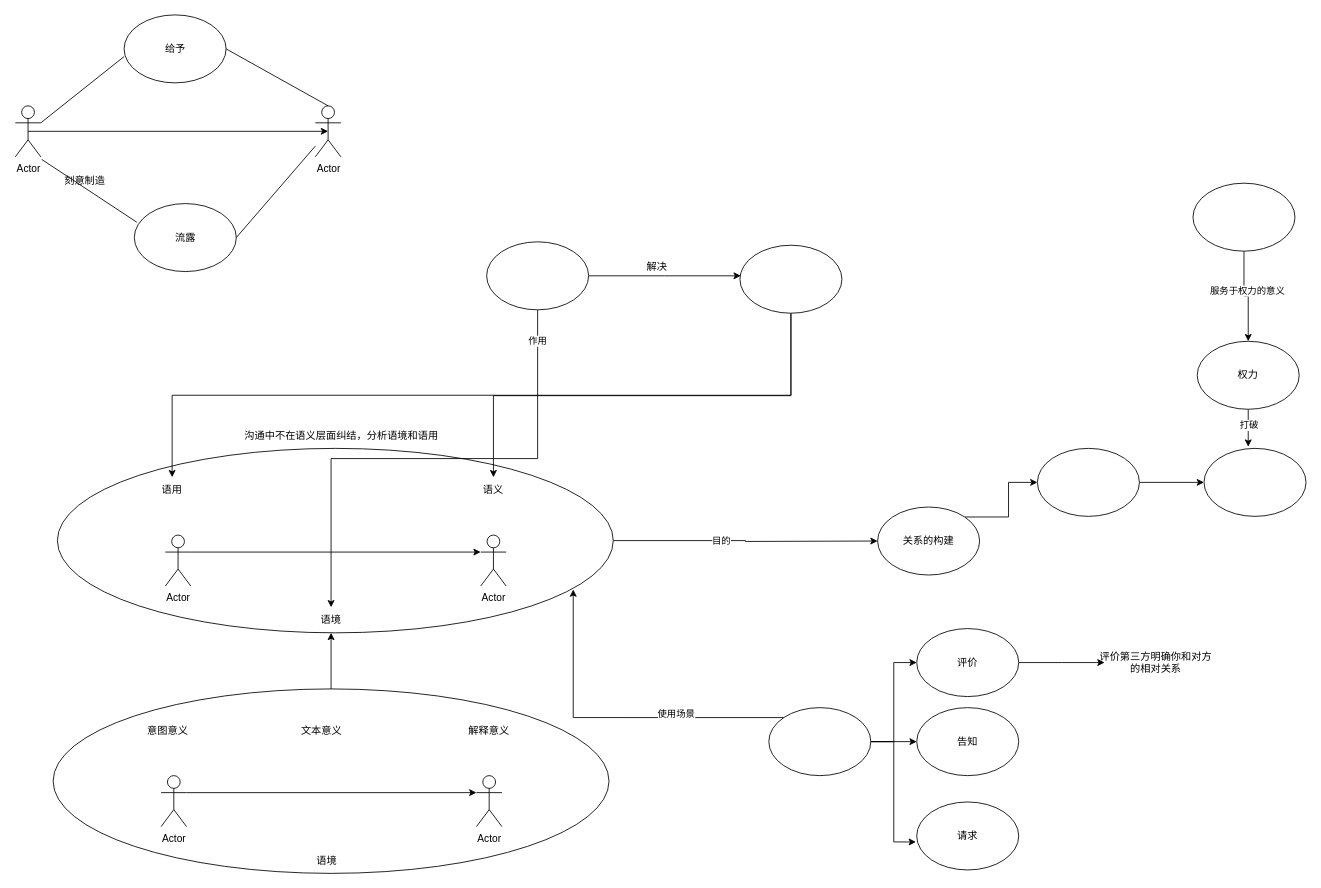
Some shapes in this 1321 by 888 pixel diagram are drawn without their labels. Each missing label, with the centre of its shape:
"争夺主体性的张力" belongs at pixel 1254 482.
"意识形态" belongs at pixel 1243 216.
"成为主体" belongs at pixel 1088 482.
"表意和解义困难" belongs at pixel 790 278.
"语言" belongs at pixel 819 741.
"集体共识" belongs at pixel 537 275.
